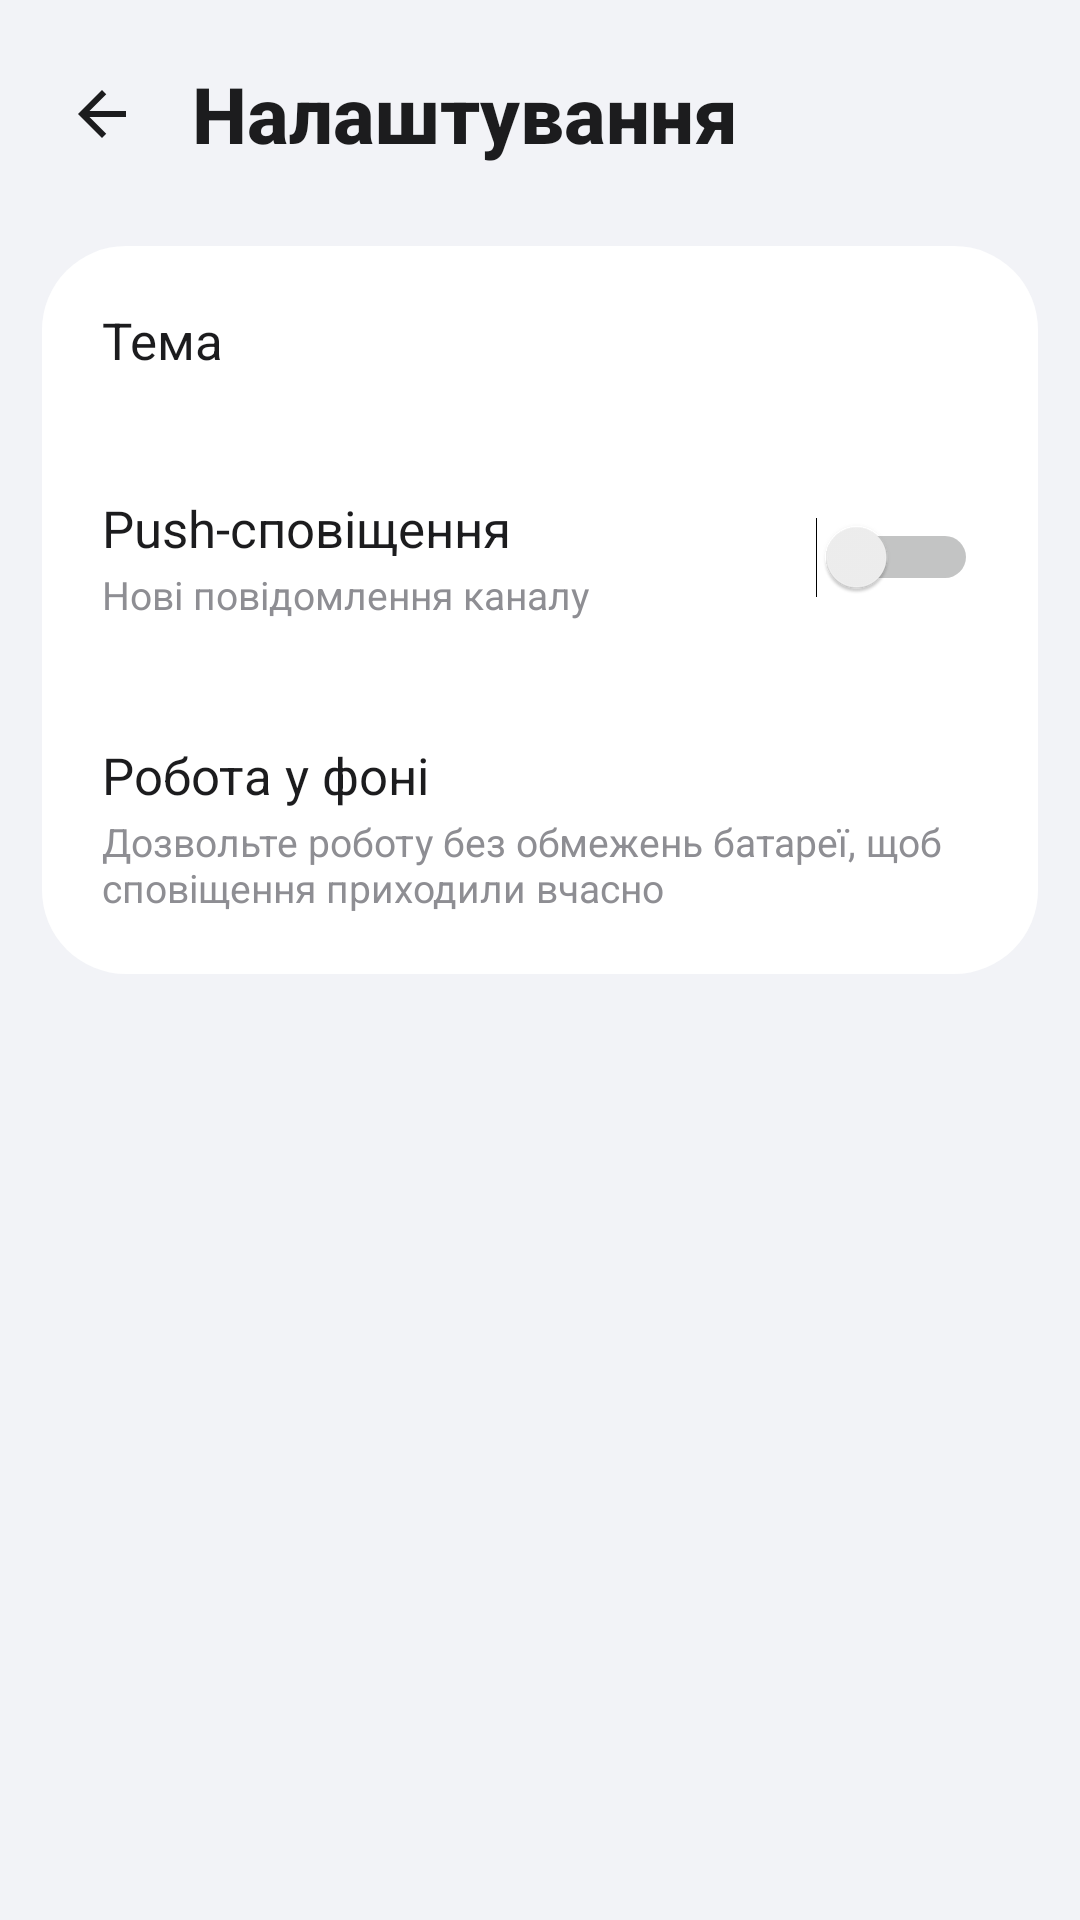

Screen size 1080x1920. Icon name, then its box in pixels as (x1, y1, x2, y2):
back: (78, 90, 126, 138)
